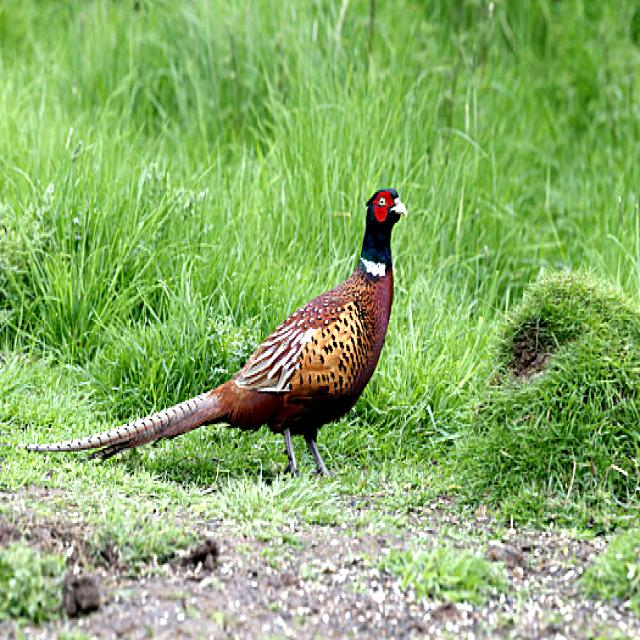Phasianus Colchicus: (24, 388, 215, 456)
